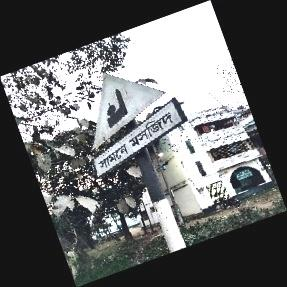Mosque in front: (90, 72, 188, 180)
